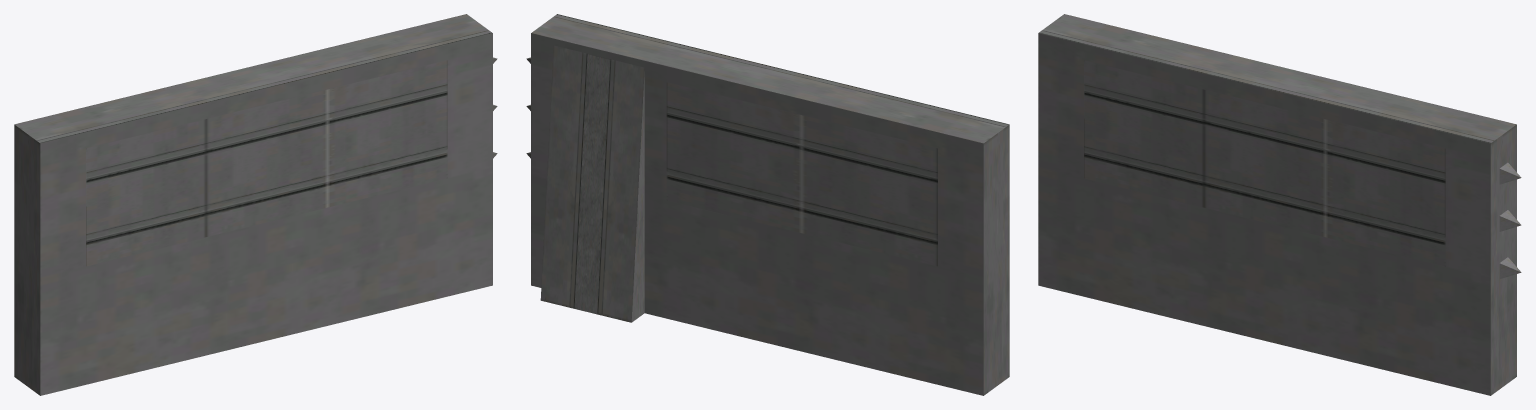
File: mun_all_military_base_gate_impl_s01_l2.fbx
The picture shows the model from 3 angles, left to right: view 1: azimuth 30°, elevation 25°; view 2: azimuth 150°, elevation 25°; view 3: azimuth 330°, elevation 25°; orthographic projection.
Visible parts, largest first — view 1: mesh_node; view 2: mesh_node; view 3: mesh_node.
Boxes of the visible parts, left/top/right/bottom form: mesh_node: left=14, top=14, right=497, bottom=395; mesh_node: left=526, top=14, right=1009, bottom=395; mesh_node: left=1038, top=14, right=1521, bottom=395.
Bounding box in the file's own units: 10.41 × 5.34 × 1.5.
1 material, 1 textured.
